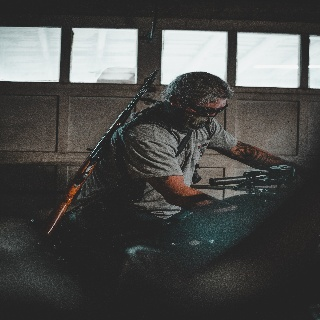rifle: (43, 64, 160, 239), (207, 160, 302, 199)
